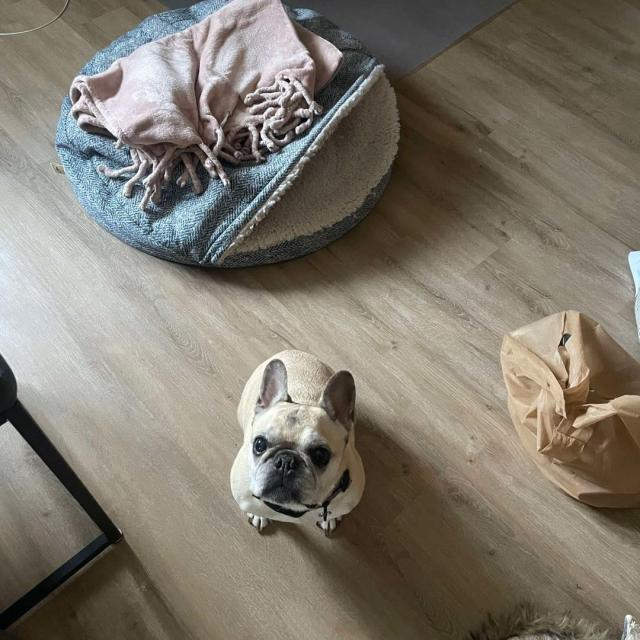french_bulldog_dog: (243, 356, 359, 514)
